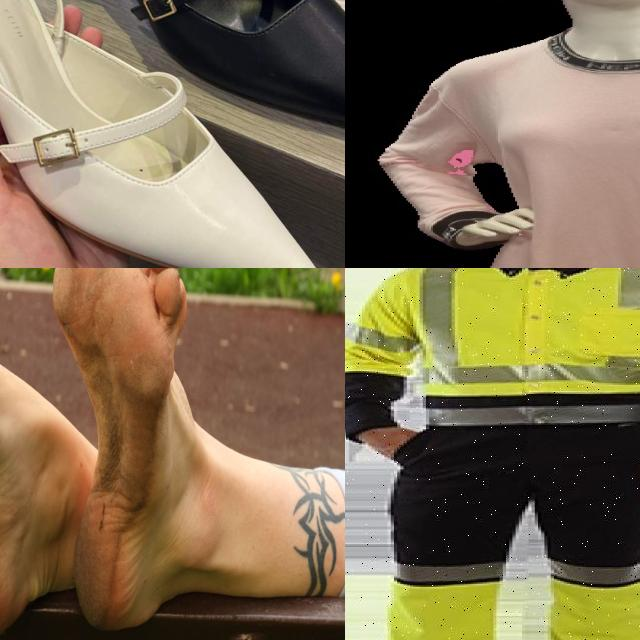Barefoots: (52, 268, 187, 632)
Sandals: (0, 0, 343, 268), (24, 0, 345, 146)
person: (345, 268, 640, 640)
vest: (384, 268, 640, 406)
